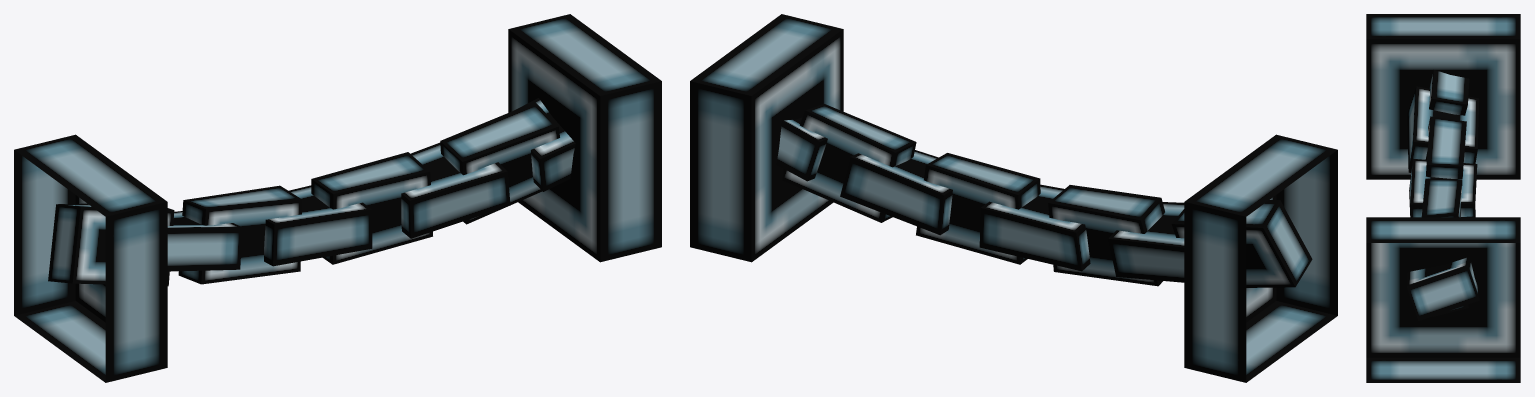
Rendered from deco_chain_short.FBX.
3 views of the same model, side by side, from view 1: azimuth 30°, elevation 25°; view 2: azimuth 150°, elevation 25°; view 3: azimuth 270°, elevation 25° (orthographic). The views are drawn at different scales.
Parts seen in each view (by area): view 1: deco_chain_short; view 2: deco_chain_short; view 3: deco_chain_short.
Part boxes in pixels (box(x1,y1,x2,y2)): deco_chain_short: box(14, 14, 661, 382); deco_chain_short: box(690, 14, 1337, 382); deco_chain_short: box(1366, 14, 1520, 382).
Bounding box in the file's own units: 1.55 × 0.4281 × 0.4281.
1 material, 1 textured.
